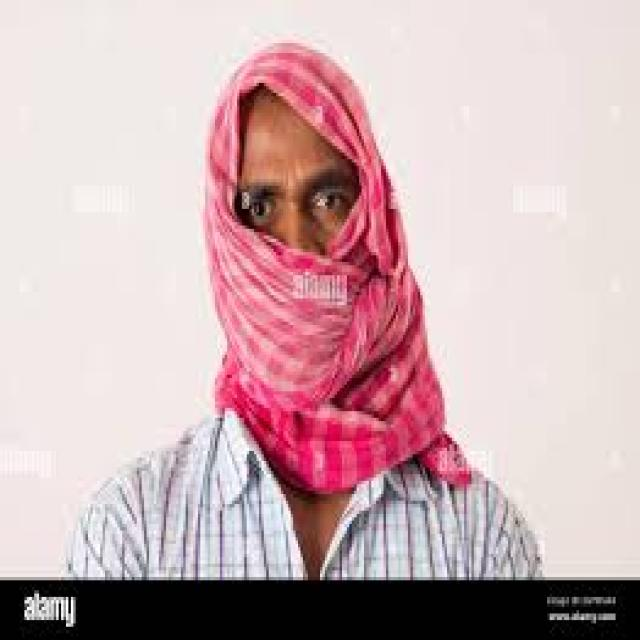person-with-mask: (31, 16, 622, 576)
